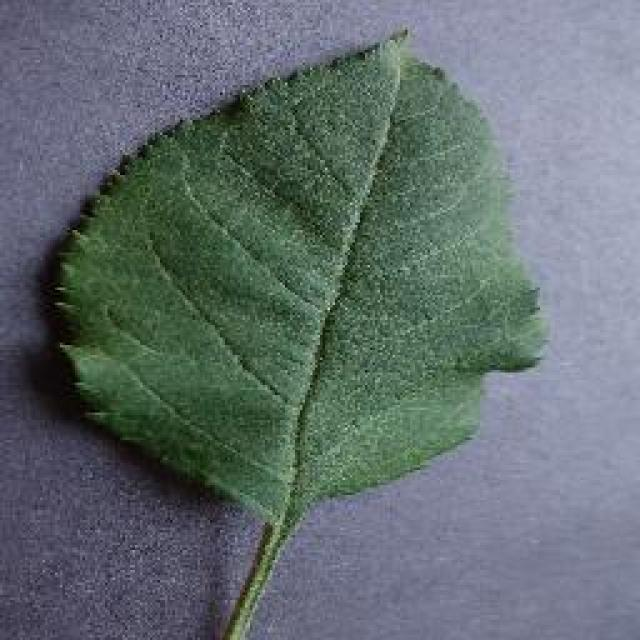apple healthy: (40, 22, 550, 638)
